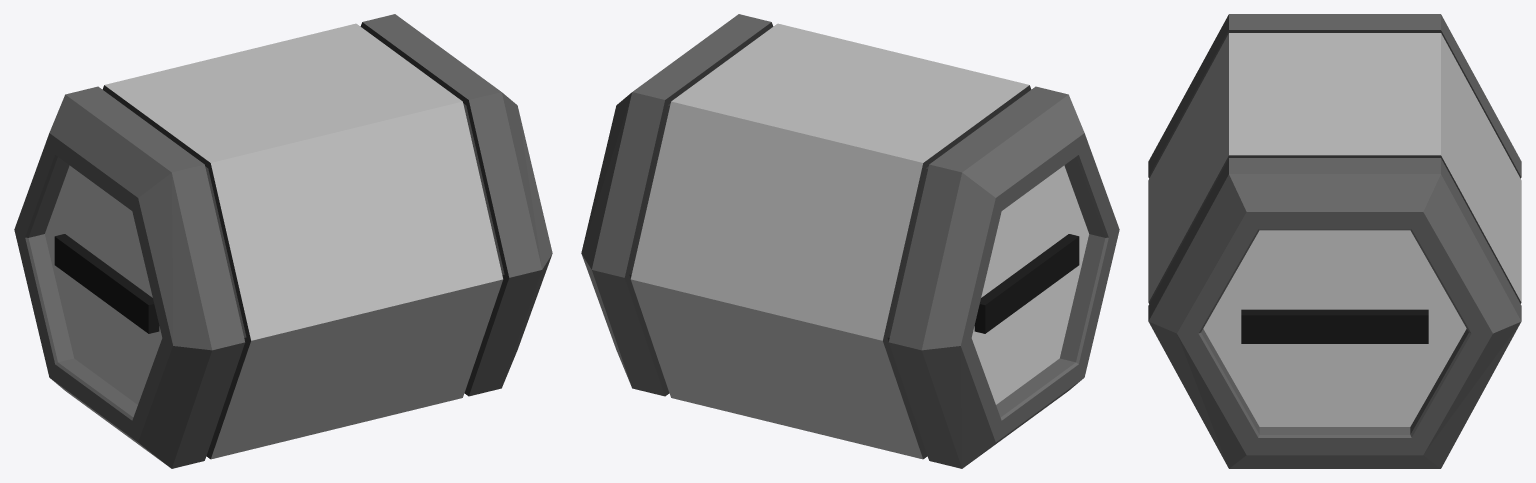
Rendered from crate_C.FBX.
3 renders of one model, left to right at view 1: azimuth 30°, elevation 25°; view 2: azimuth 150°, elevation 25°; view 3: azimuth 270°, elevation 25°, orthographic.
Visible parts, largest first — view 1: crate_C; view 2: crate_C; view 3: crate_C.
Boxes of the visible parts, x1=… form: crate_C: x1=14, y1=14, x2=552, y2=468; crate_C: x1=581, y1=14, x2=1119, y2=468; crate_C: x1=1148, y1=14, x2=1521, y2=468.
Bounding box in the file's own units: 150 × 112 × 128.
